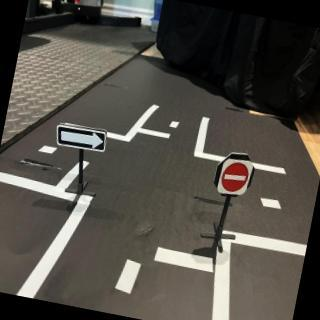sign_noentry: (218, 158, 254, 197)
sign_oneway_right: (53, 121, 111, 156)
